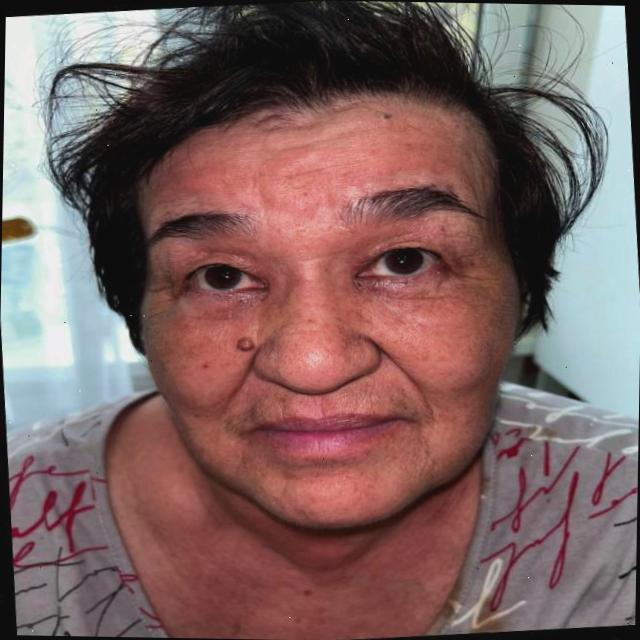blackhead: (324, 303, 357, 333), (380, 111, 395, 122)
